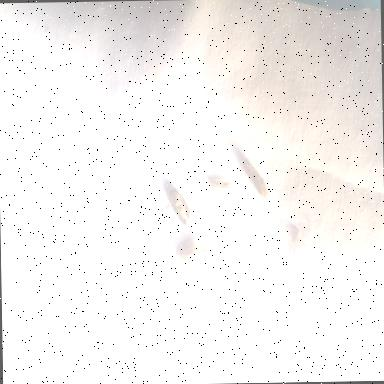pbw: (167, 186, 191, 226), (246, 164, 270, 201), (180, 244, 209, 264), (210, 178, 232, 188)
